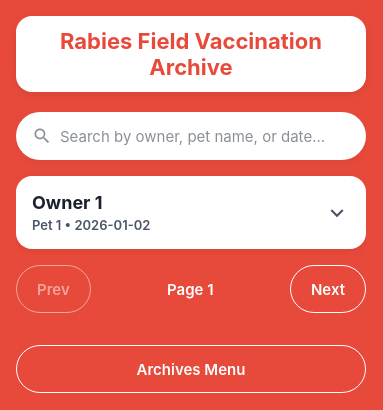
Scenario: Field_vacc_archives — reviewer (RabDash) pagination and search › tapping Next fetches page 2 from the server, not a client-side slice
Expected: the text "Owner 1" is shown, x1=32 y1=192 x2=102 y2=213
Click the text "Next" at (328, 289), box x1=311 y1=280 x2=345 y2=298
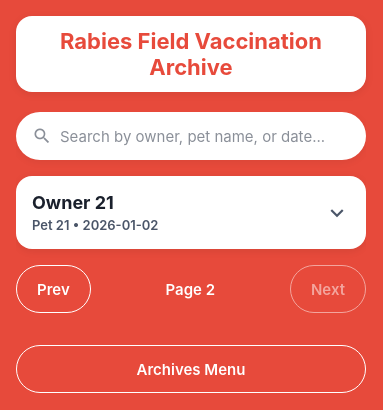
Expected: the text "Owner 21" is shown, x1=32 y1=192 x2=114 y2=213
